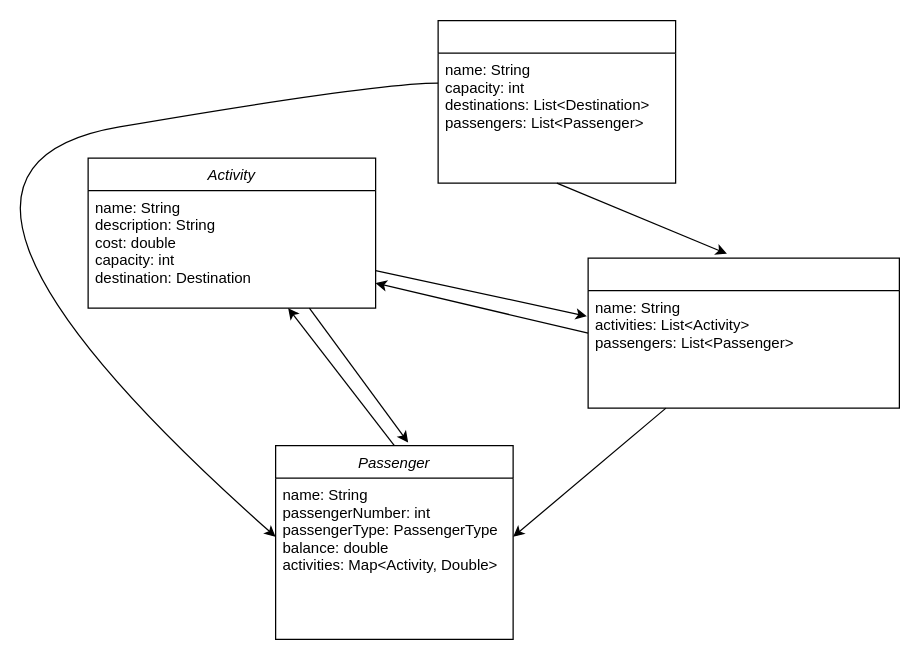
Some shapes in this 920 by 660 pixel diagram are drawn without their labels. Each missing label, with the box of its shape:
Destination: (587, 257, 899, 408)
TravelPackage: (437, 19, 676, 183)
